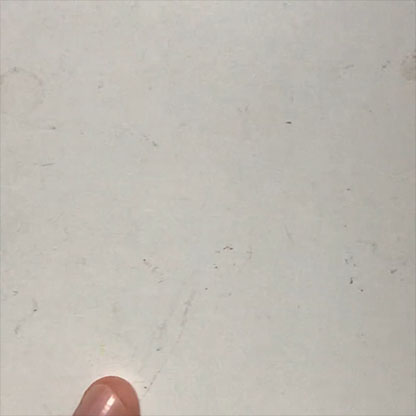fingertip: (69, 368, 146, 414)
